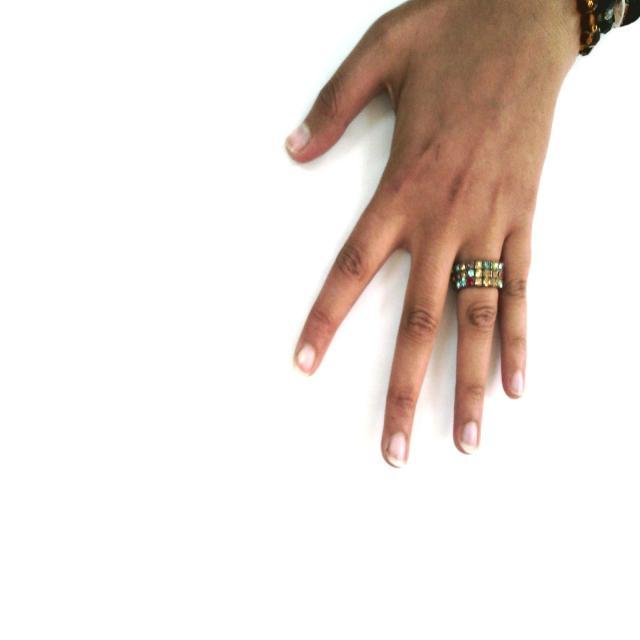Fingernail: (387, 433, 406, 464), (287, 125, 309, 151), (297, 345, 315, 373), (461, 422, 478, 450), (511, 372, 523, 396)
